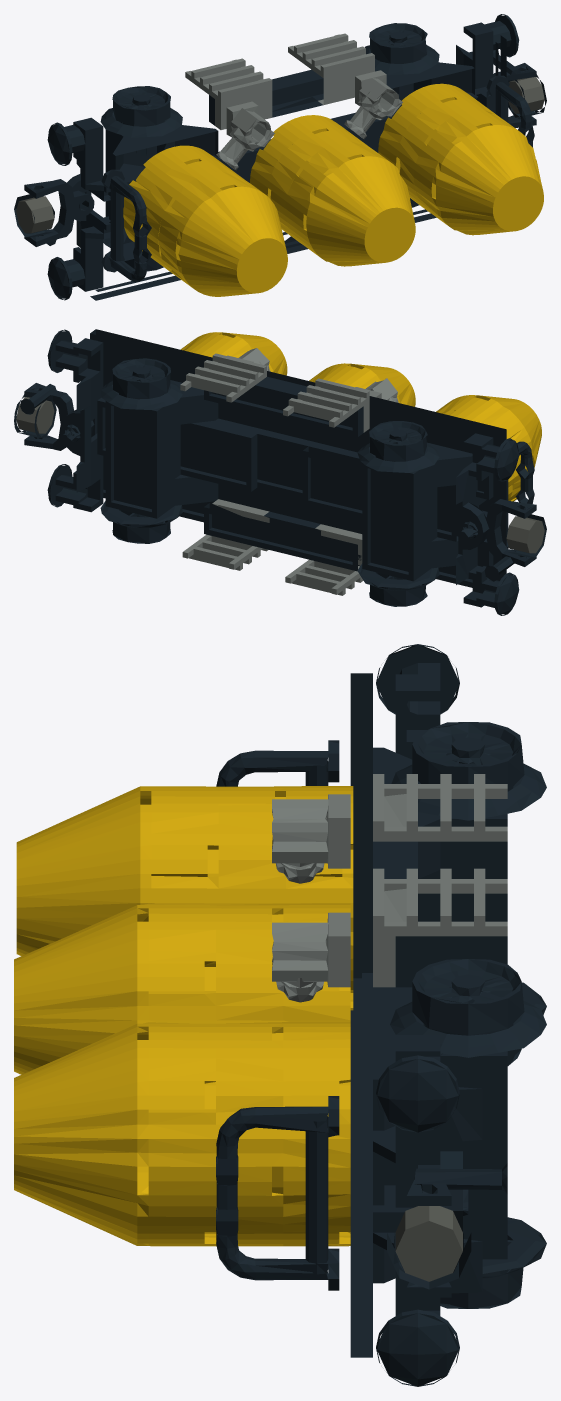
Rendered from wagon-2.glb.
The picture shows the model from 3 angles, top to bottom: view 1: azimuth 30°, elevation 25°; view 2: azimuth 150°, elevation 25°; view 3: azimuth 270°, elevation 25°; orthographic projection. The views are drawn at different scales.
Bounding box in the file's own units: 159 × 54.4 × 76.
